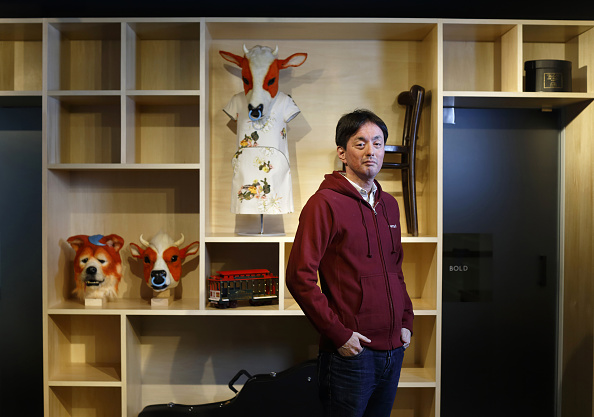em pe: (282, 102, 416, 417)
